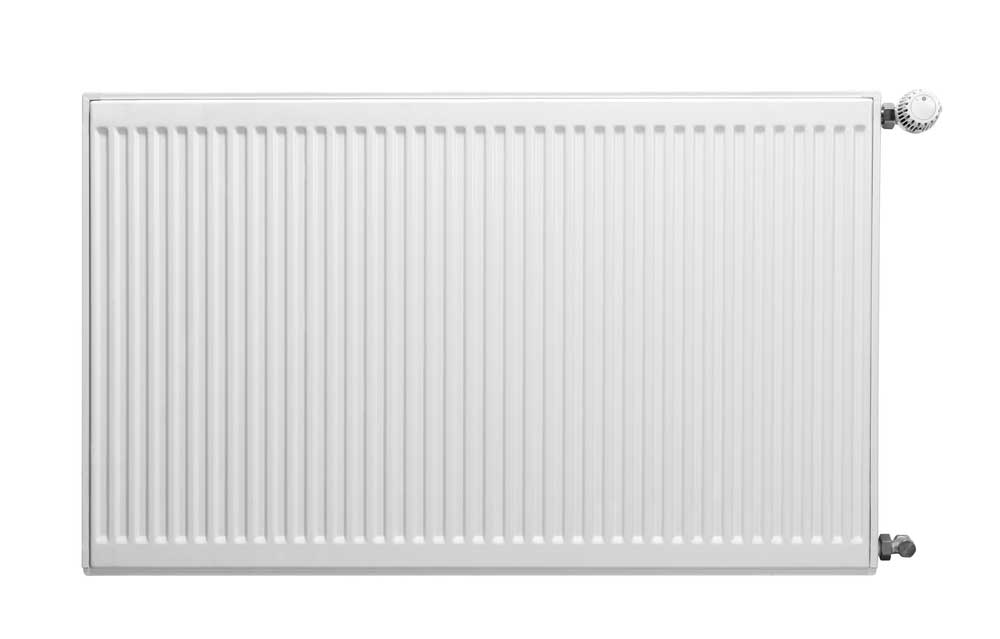Radiator: (76, 80, 944, 574)
